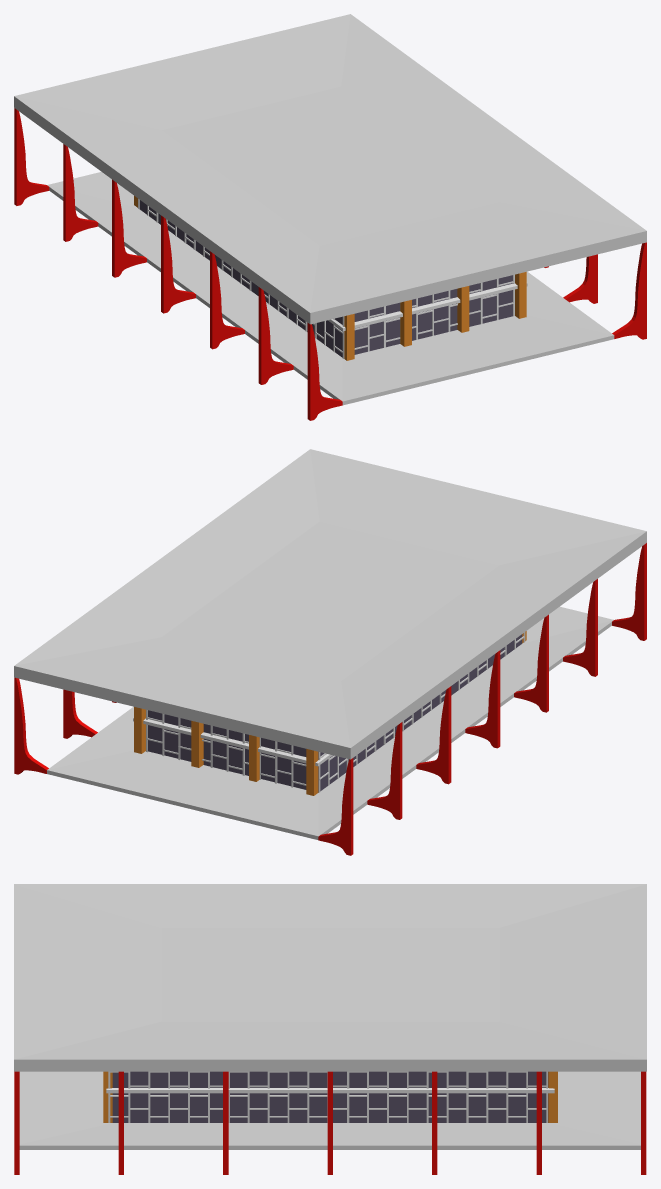
File: STF.fbx
3 renders of one model, top to bottom at view 1: azimuth 30°, elevation 25°; view 2: azimuth 150°, elevation 25°; view 3: azimuth 270°, elevation 25°, orthographic. The views are drawn at different scales.
Parts seen in each view (by area): view 1: Prédio STF, Pilastras externas, Grade, Colunas; view 2: Prédio STF, Pilastras externas, Grade, Colunas; view 3: Prédio STF, Grade, Pilastras externas, Colunas.
Boxes of the visible parts, x1=… form: Prédio STF: x1=14, y1=14, x2=646, y2=405; Pilastras externas: x1=14, y1=108, x2=646, y2=420; Grade: x1=138, y1=198, x2=514, y2=358; Colunas: x1=134, y1=196, x2=526, y2=360; Prédio STF: x1=14, y1=449, x2=646, y2=839; Pilastras externas: x1=14, y1=543, x2=646, y2=855; Grade: x1=146, y1=632, x2=525, y2=792; Colunas: x1=134, y1=631, x2=526, y2=795; Prédio STF: x1=14, y1=884, x2=646, y2=1149; Grade: x1=108, y1=1071, x2=547, y2=1122; Pilastras externas: x1=14, y1=1071, x2=646, y2=1174; Colunas: x1=103, y1=1071, x2=557, y2=1122.
Size of the model in its own units: 1267 by 388 by 1931.
